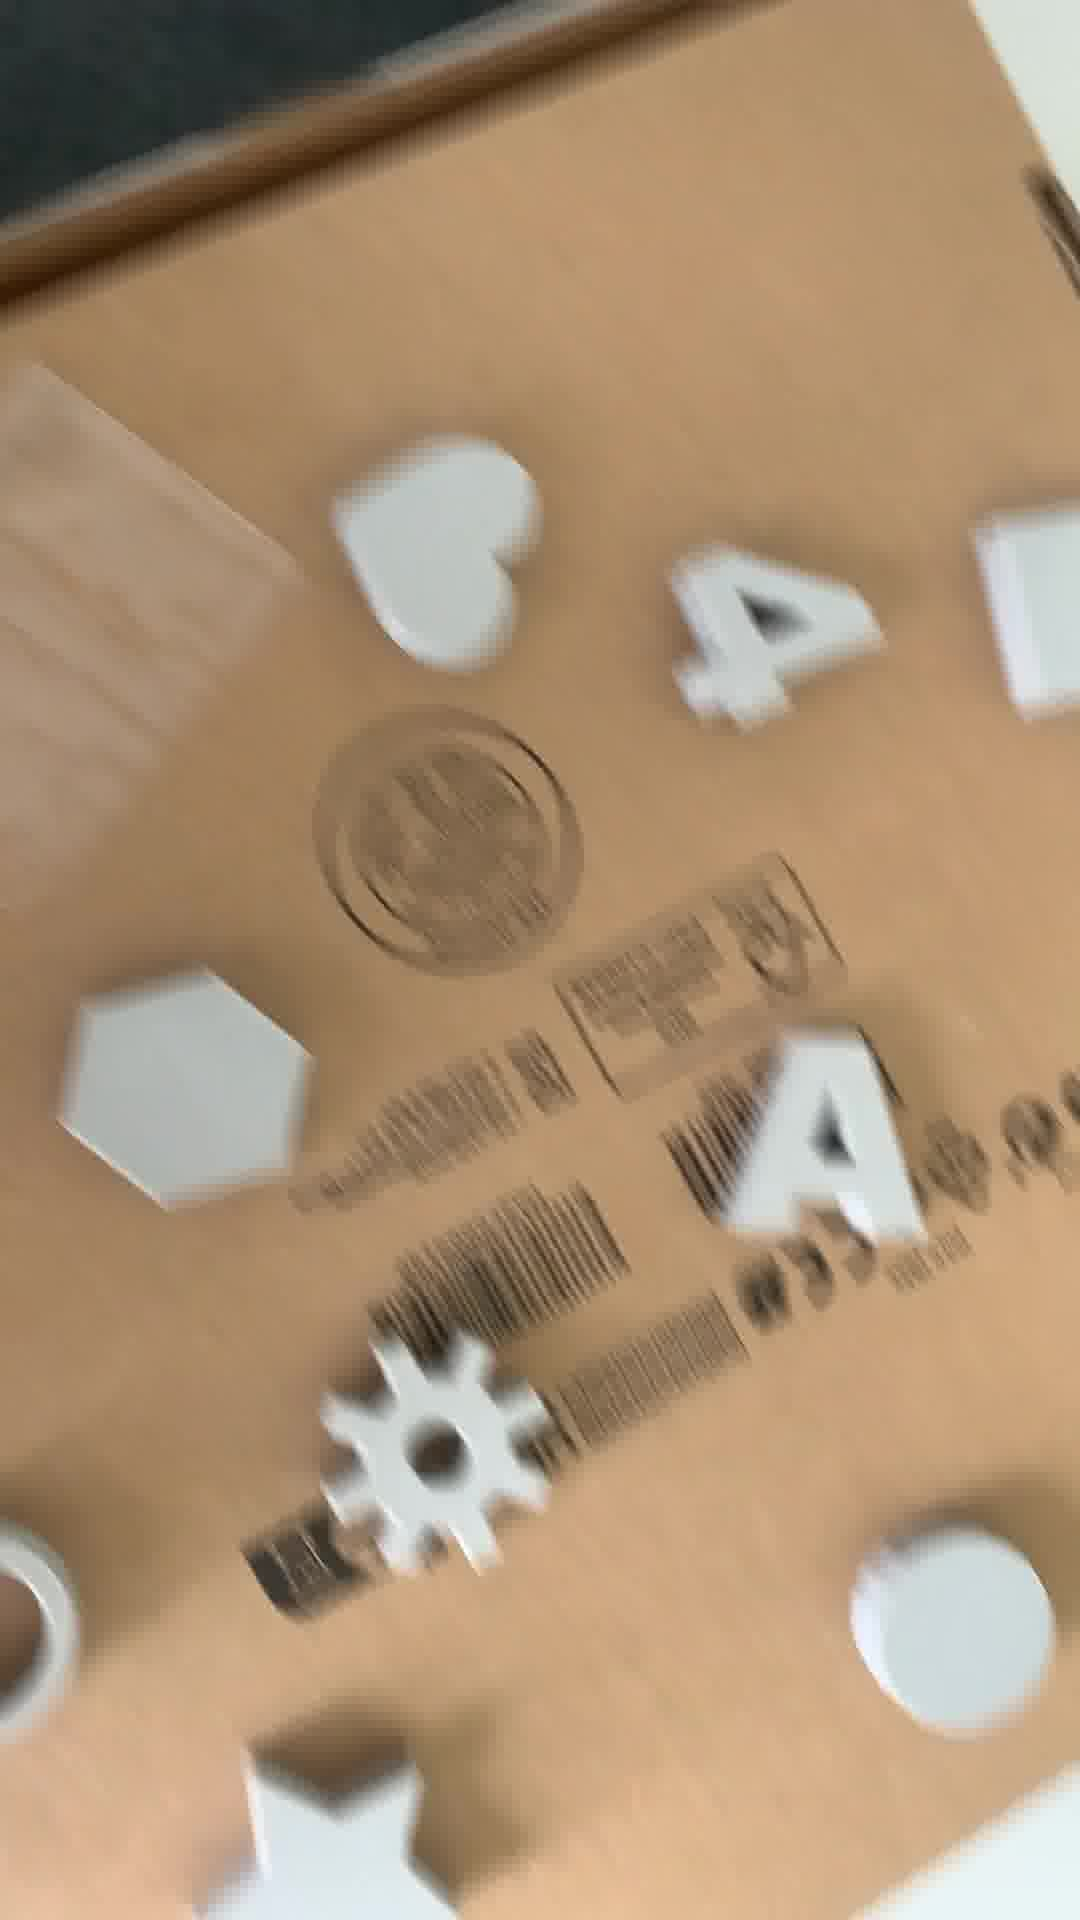Gray A-letter: (715, 1018, 942, 1261)
Gray circle: (849, 1522, 1060, 1741)
Gray four: (659, 531, 884, 732)
Gray heart: (324, 436, 556, 679)
Gray hexagon: (58, 945, 342, 1222)
Gray ring: (1, 1522, 82, 1742)
Gray square: (968, 489, 1080, 731)
Gray star: (194, 1731, 491, 1920)
